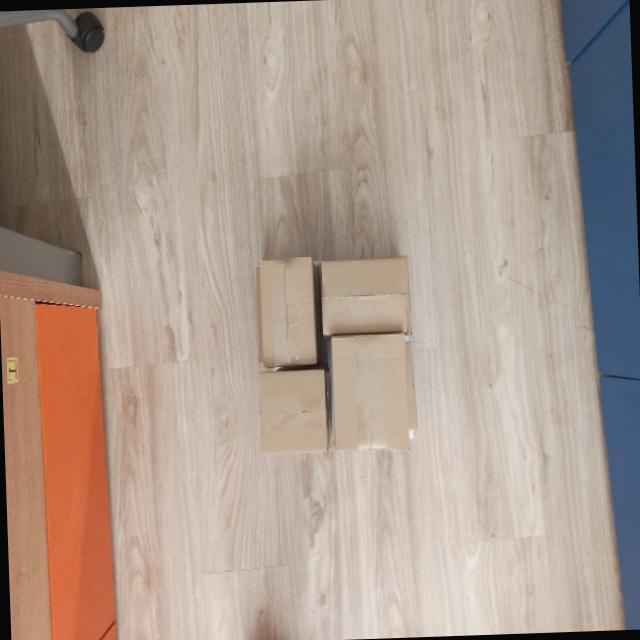box: (326, 331, 413, 452), (315, 254, 413, 338), (253, 255, 321, 370), (252, 367, 330, 457)
